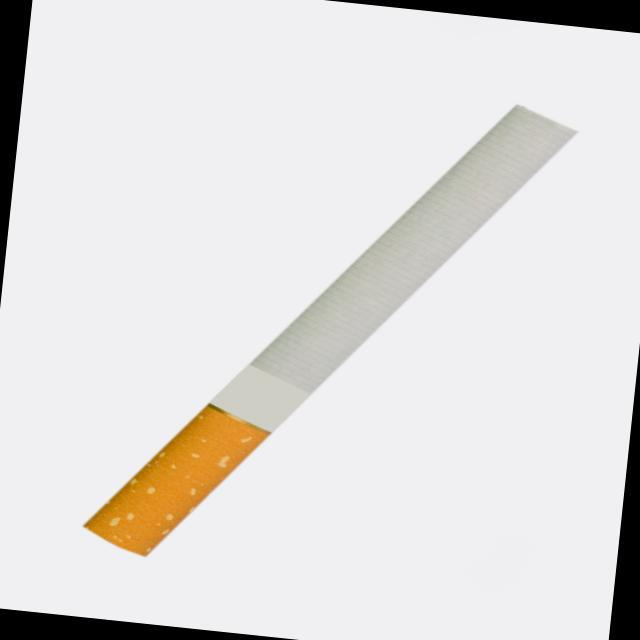cigarette: (61, 59, 594, 596)
